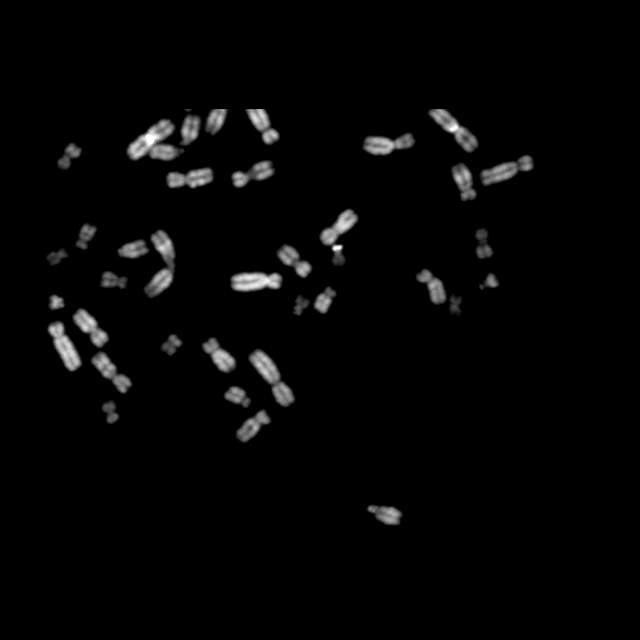chromosome: (249, 349, 295, 406), (149, 115, 199, 158), (145, 230, 175, 298), (427, 110, 477, 150), (90, 351, 132, 393), (128, 120, 172, 160), (48, 322, 82, 372), (482, 157, 534, 186), (322, 208, 358, 246), (75, 308, 108, 348), (202, 336, 235, 372), (248, 110, 278, 144), (364, 134, 414, 154), (237, 411, 269, 442), (233, 271, 282, 291), (278, 246, 310, 276), (232, 162, 272, 186), (418, 270, 444, 304), (168, 169, 212, 189), (452, 164, 476, 200), (367, 504, 401, 524), (58, 142, 80, 170), (316, 286, 336, 314), (118, 240, 148, 258), (225, 387, 250, 408), (75, 224, 95, 250), (476, 230, 494, 258), (160, 334, 182, 356), (102, 273, 126, 291), (101, 401, 119, 423), (292, 294, 308, 316), (480, 275, 498, 291), (331, 245, 345, 265), (448, 296, 462, 316), (49, 248, 66, 264), (51, 294, 64, 312)
